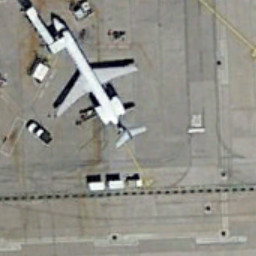Airplane: (40, 11, 153, 154)
